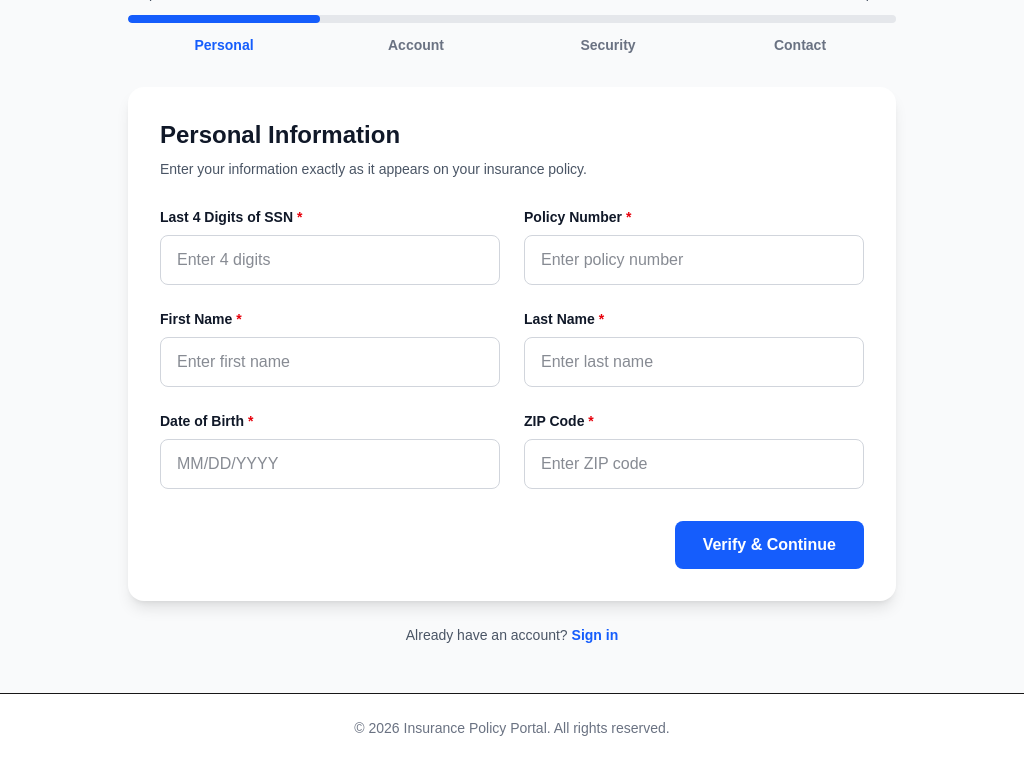
Test: RegisterPage - Step 1 › should display validation errors when Step 1 is submitted empty
(page scrolled)
What coordinates should you click on to do the following:
click the button "Verify & Continue"
I would click on:
 (769, 545)
Its box is [675, 521, 864, 569].
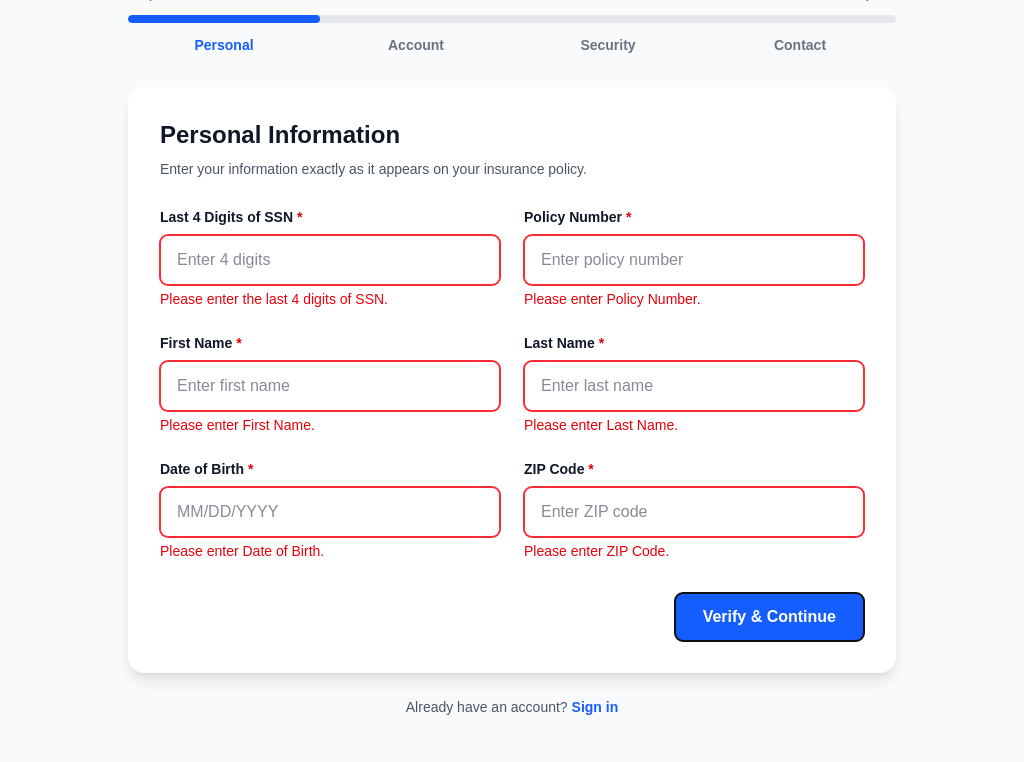
Expected: the text "Please enter the last 4 digits of SSN." is shown, [160, 291, 388, 307]
Expected: the text "Please enter Policy Number." is shown, [524, 291, 701, 307]
Expected: the text "Please enter First Name." is shown, [160, 417, 315, 433]
